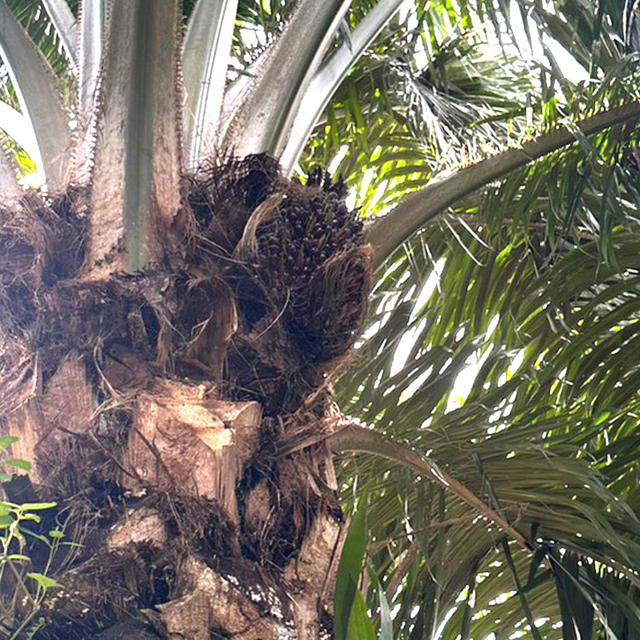unripe: (241, 180, 381, 371)
